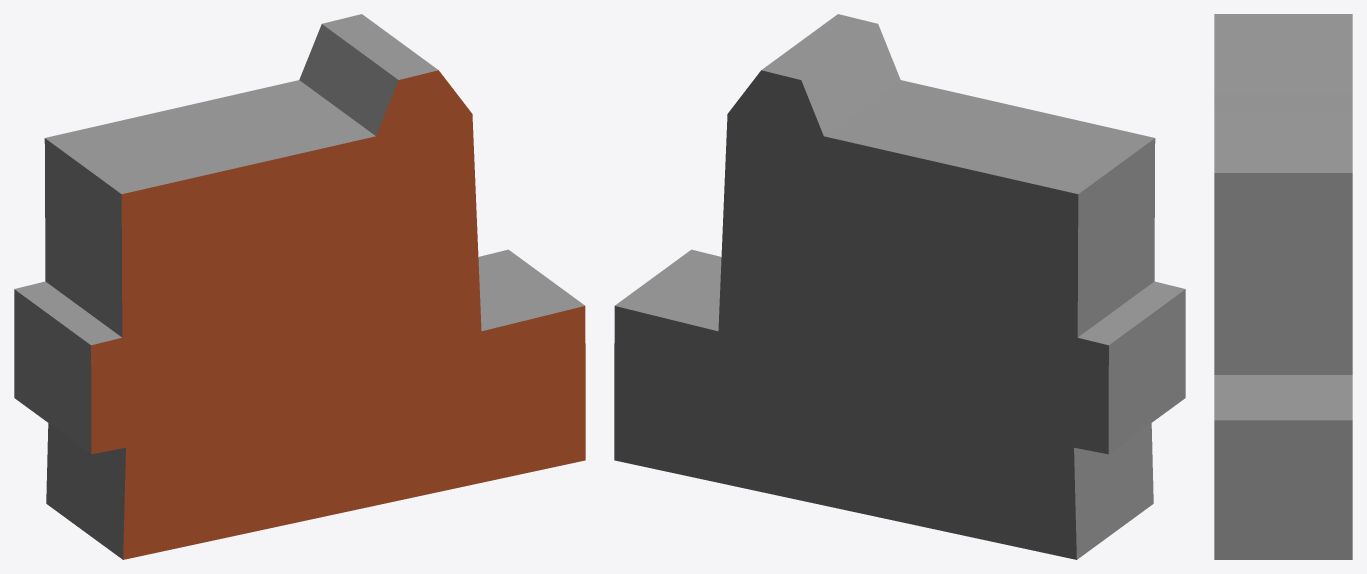
File: construction_5195_assumed_A_Casa_h6m.obj
3 views of the same model, side by side, from view 1: azimuth 30°, elevation 25°; view 2: azimuth 150°, elevation 25°; view 3: azimuth 270°, elevation 25° (orthographic). The views are drawn at different scales.
Visible parts, largest first — view 1: construction_5195_assumed_A_Casa; view 2: construction_5195_assumed_A_Casa; view 3: construction_5195_assumed_A_Casa.
Boxes of the visible parts, x1=… form: construction_5195_assumed_A_Casa: x1=14, y1=14, x2=585, y2=559; construction_5195_assumed_A_Casa: x1=614, y1=14, x2=1185, y2=559; construction_5195_assumed_A_Casa: x1=1214, y1=14, x2=1352, y2=559.
Size of the model in its own units: 22.29 by 18.34 by 6.
